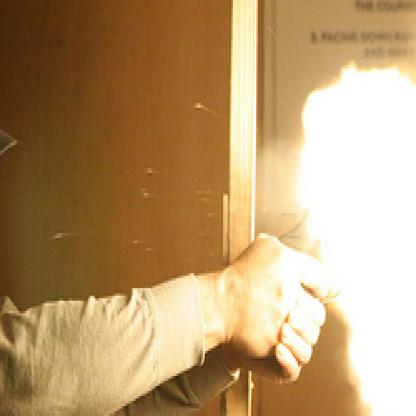gun: (251, 193, 361, 341)
